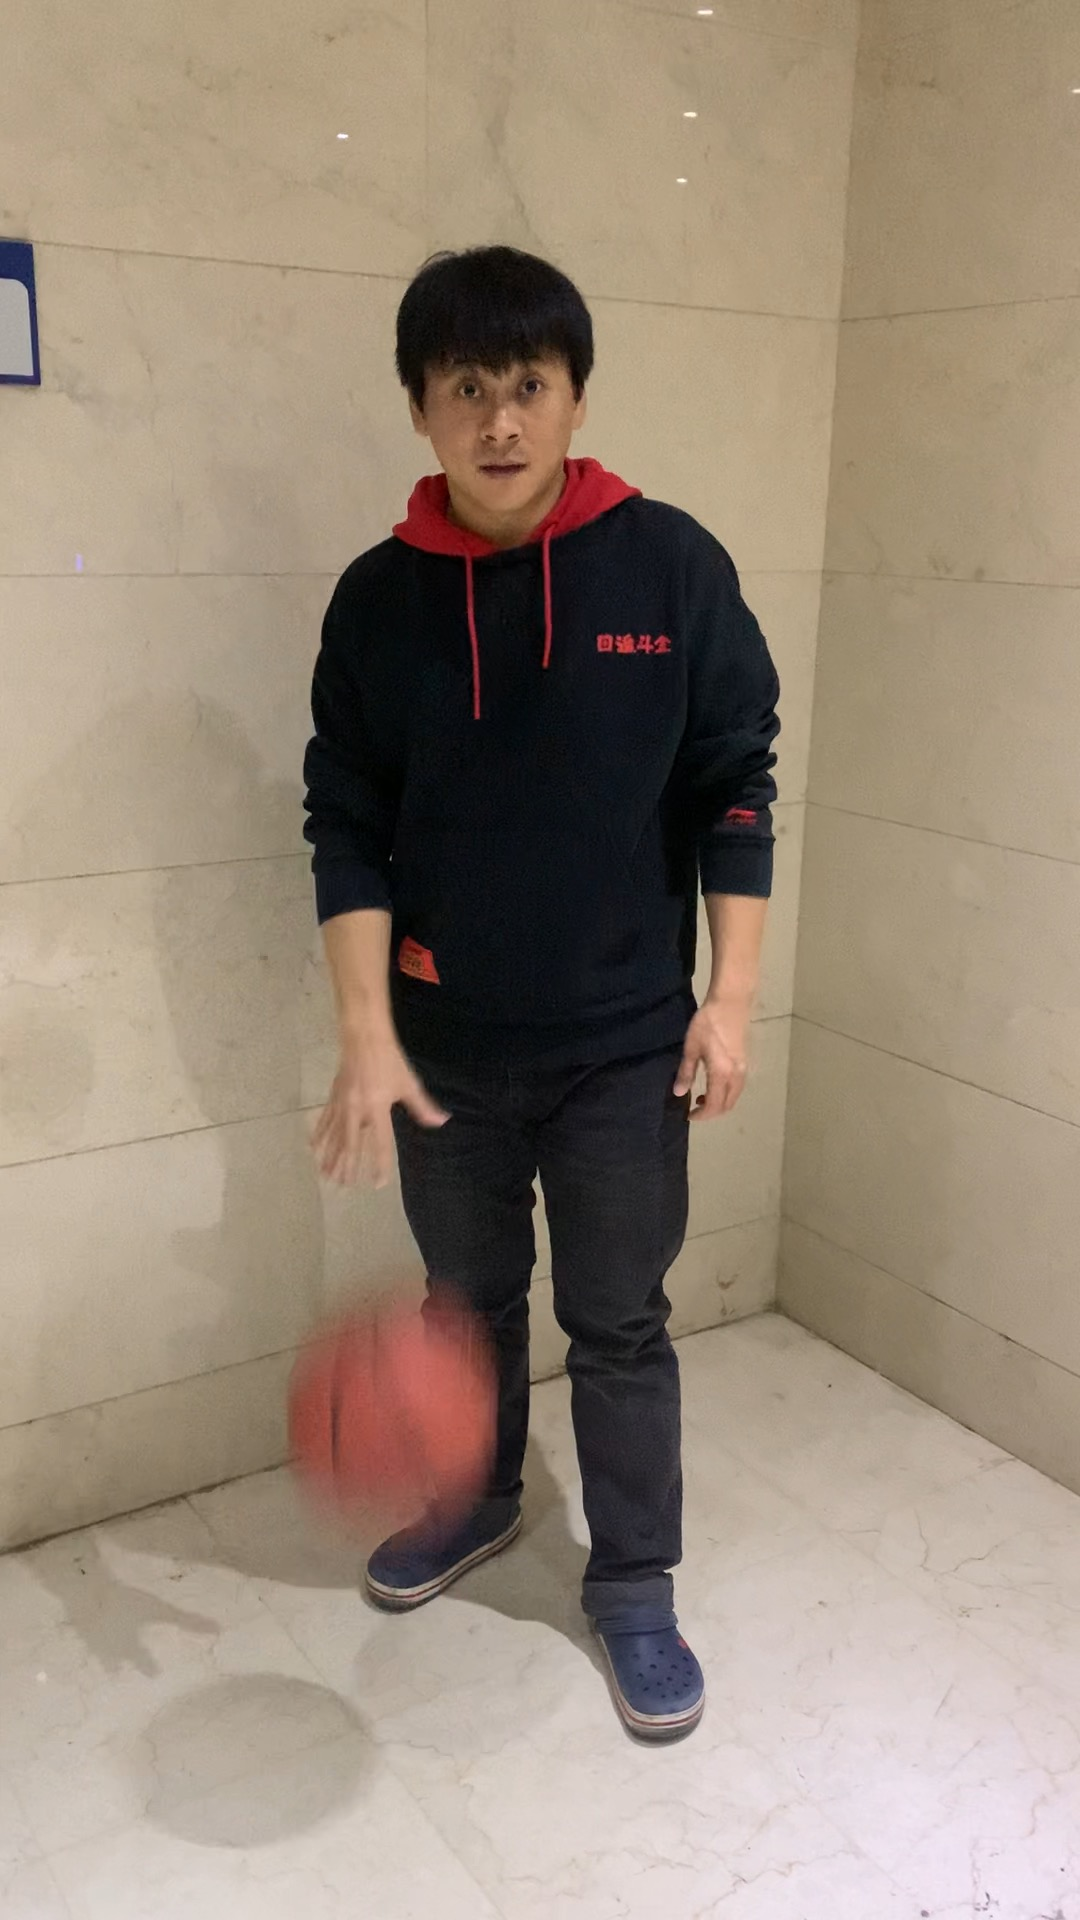ball: (284, 1313, 498, 1523)
